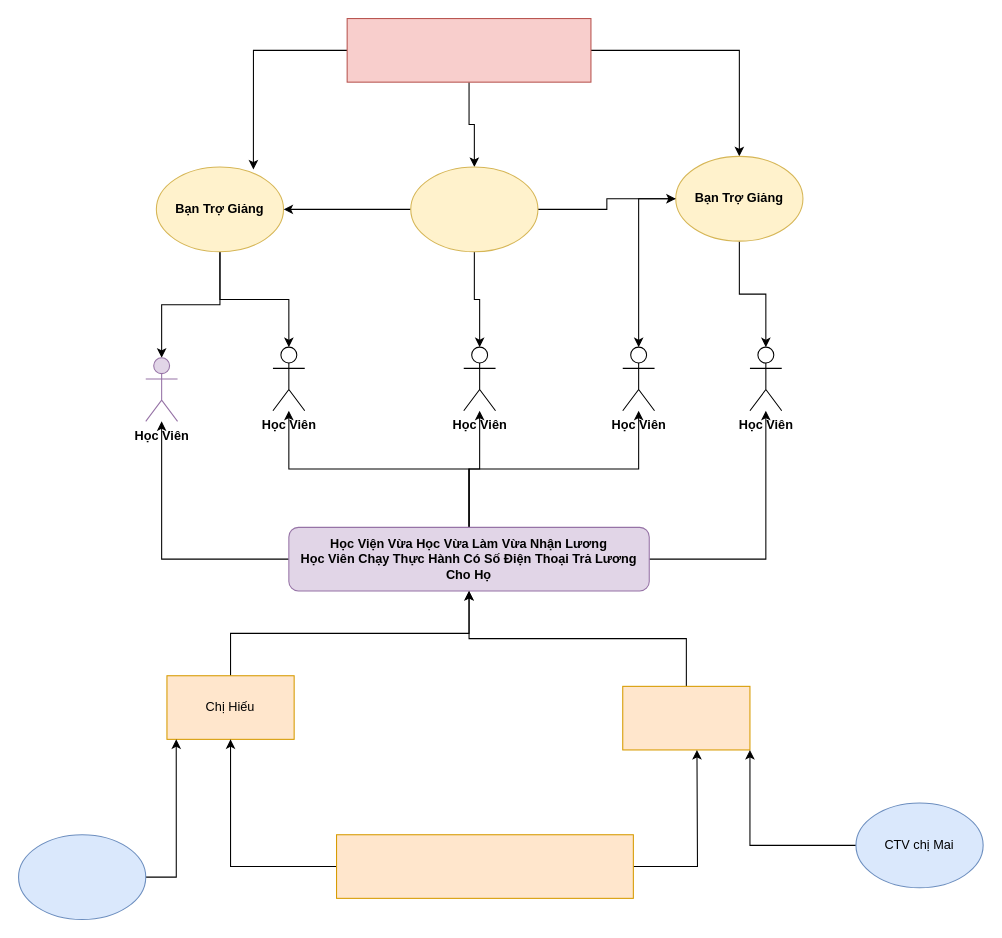
Some shapes in this 1002 by 938 pixel diagram are drawn without their labels. The shapes that lost their labels are listed below. From the top down, each one's centre as x and y in pixels, then its label:
At point 468,49: "Marketting".
At point 474,209: "Em".
At point 686,717: "Chị Mai".
At point 81,877: "CTV chị hiếu".
At point 484,866: "Tư Vấn Chốt Khách".
